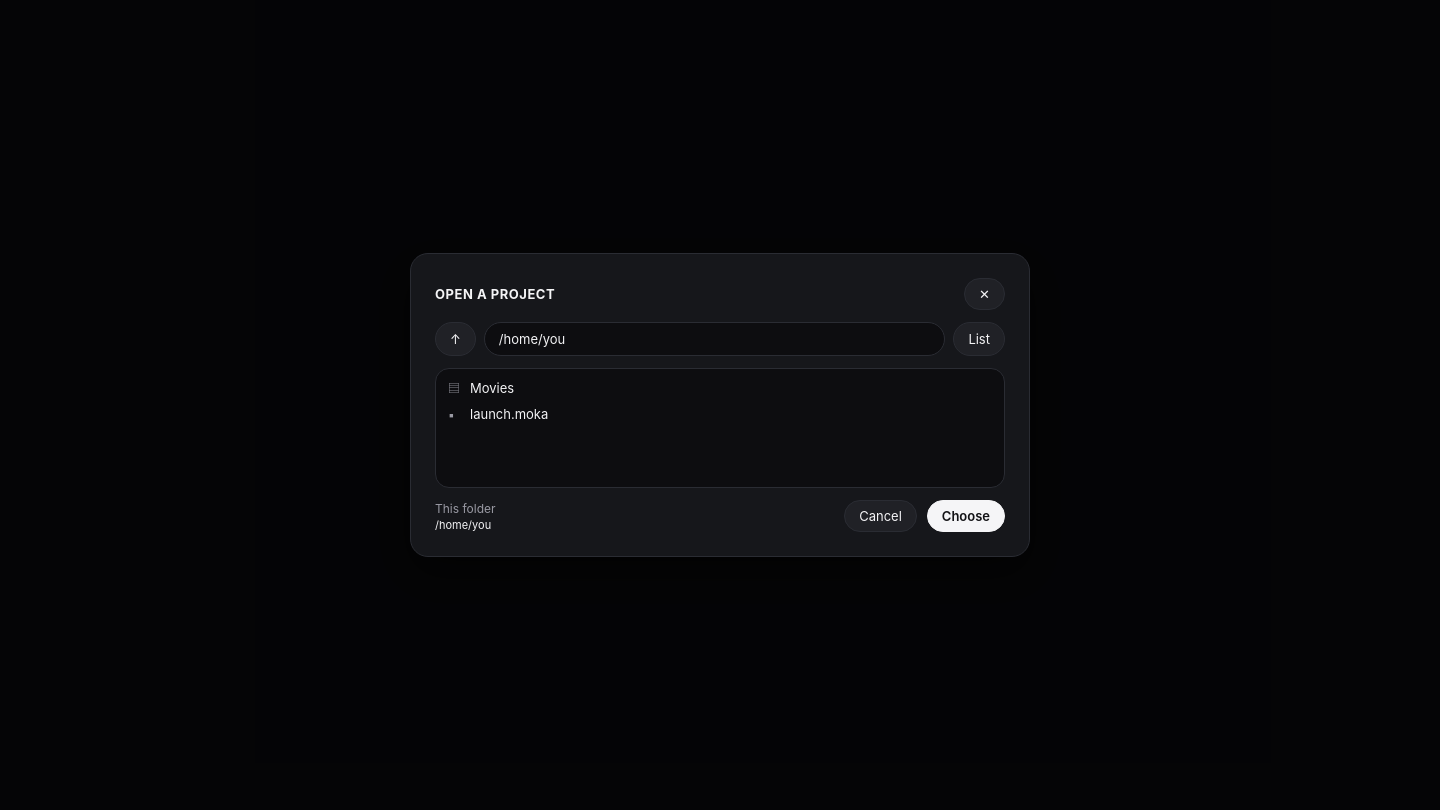
Test case: the file dialog a browser has to draw itself › says when a folder would not be listed, and keeps the last one that was
Replace the text in the field with test id "path-browser-typed" with "/home/nowhere" at (715, 339), box [484, 322, 945, 356]
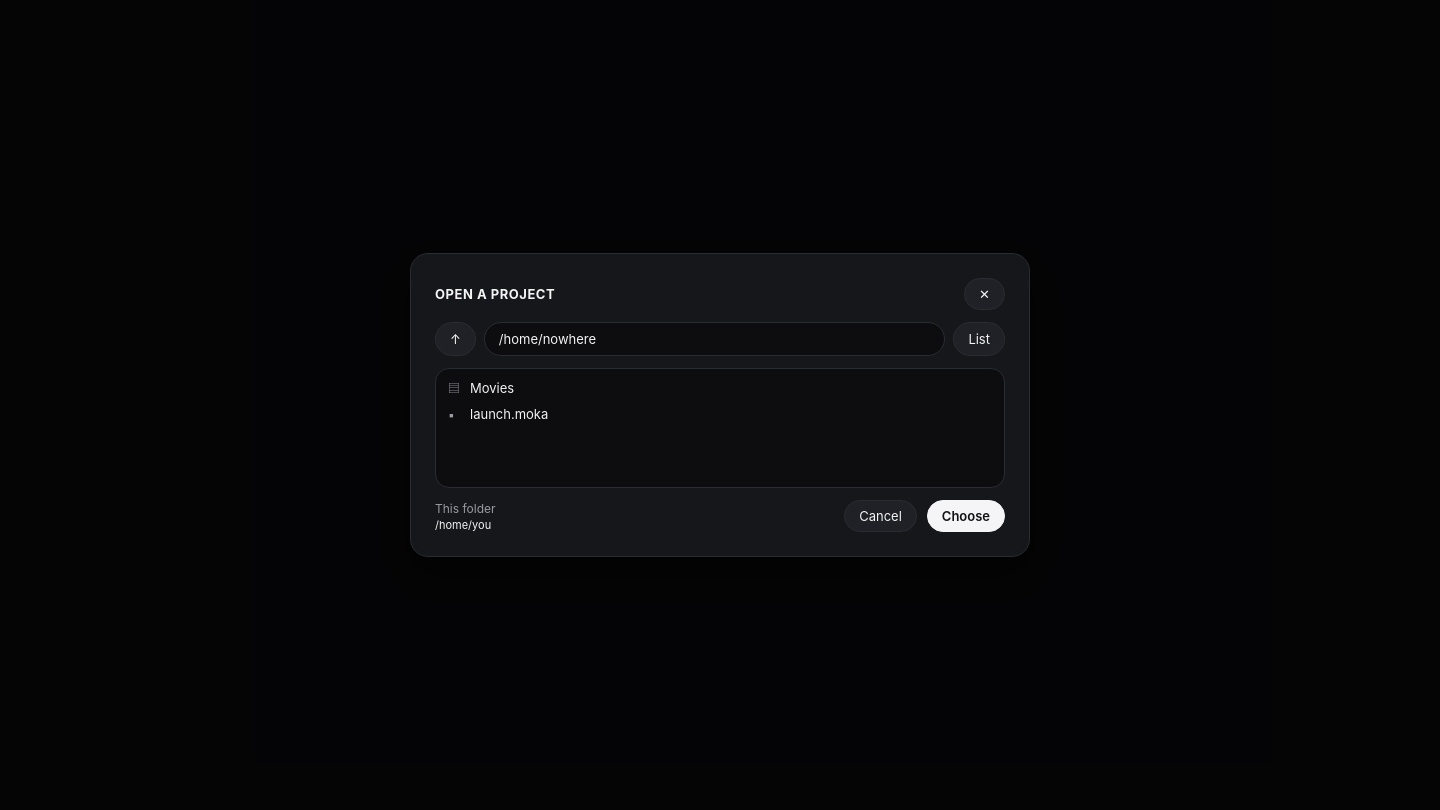
Submit the form with test id "path-browser-typed", box [435, 322, 1005, 356]
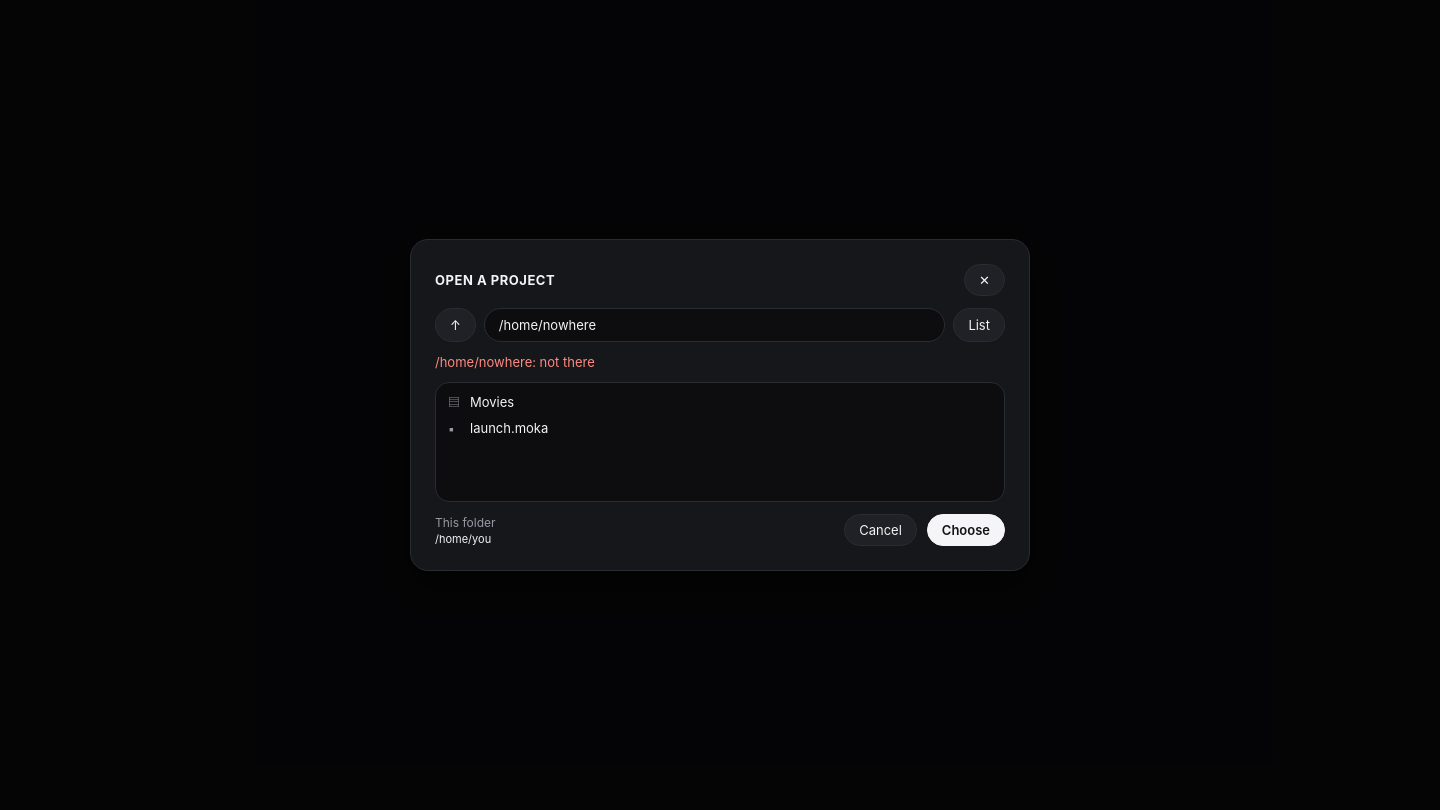
Expected: the button with test id "path-browser-row-Movies" is shown, [442, 389, 998, 414]
Now the message with test id "path-browser-error" reads "/home/nowhere: not there", box [435, 354, 595, 370]
